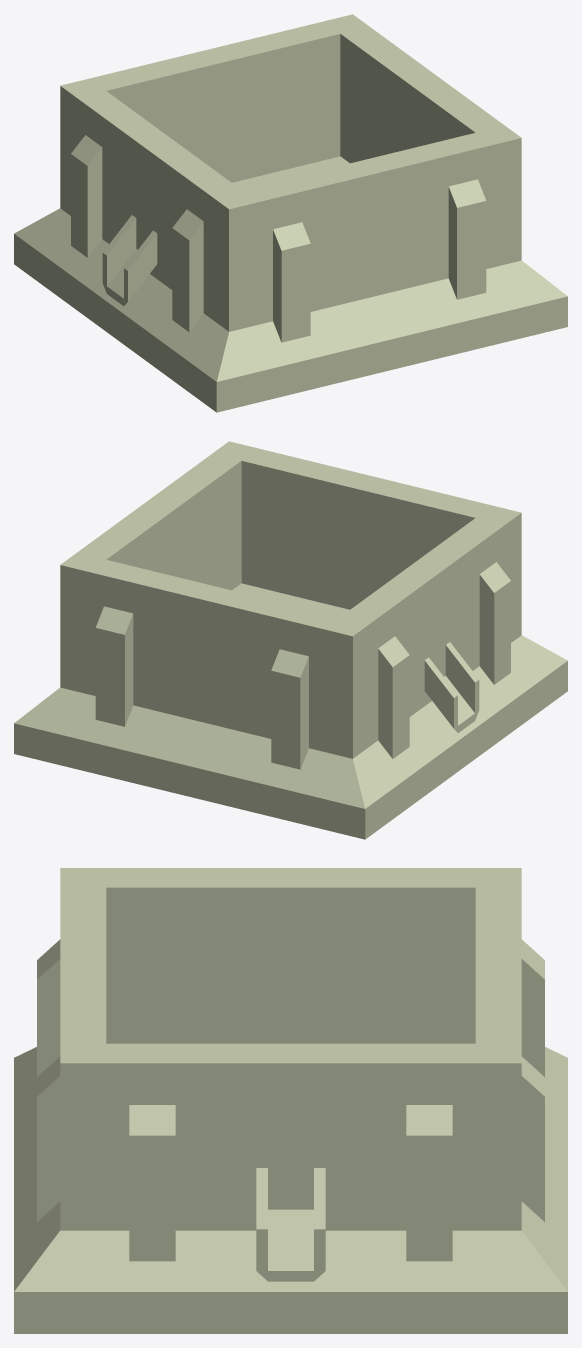
The model's file is crucible.obj.
3 renders of one model, top to bottom at view 1: azimuth 30°, elevation 25°; view 2: azimuth 150°, elevation 25°; view 3: azimuth 270°, elevation 25°, orthographic. The views are drawn at different scales.
Parts seen in each view (by area): view 1: Main, Lava; view 2: Main, Lava; view 3: Main.
Part boxes in pixels (x1,y1,x2,y2): Main: (14, 14, 567, 412); Lava: (232, 156, 349, 189); Main: (14, 441, 567, 839); Lava: (232, 583, 349, 616); Main: (14, 868, 567, 1333).
Size of the model in its own units: 3 by 1.5 by 3.
